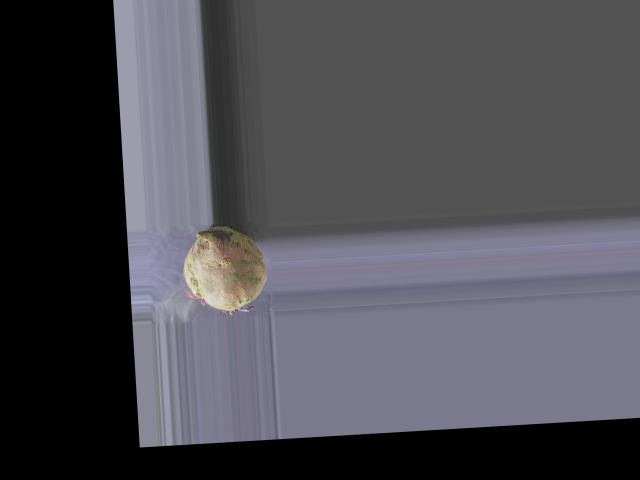beet: (180, 223, 268, 316)
